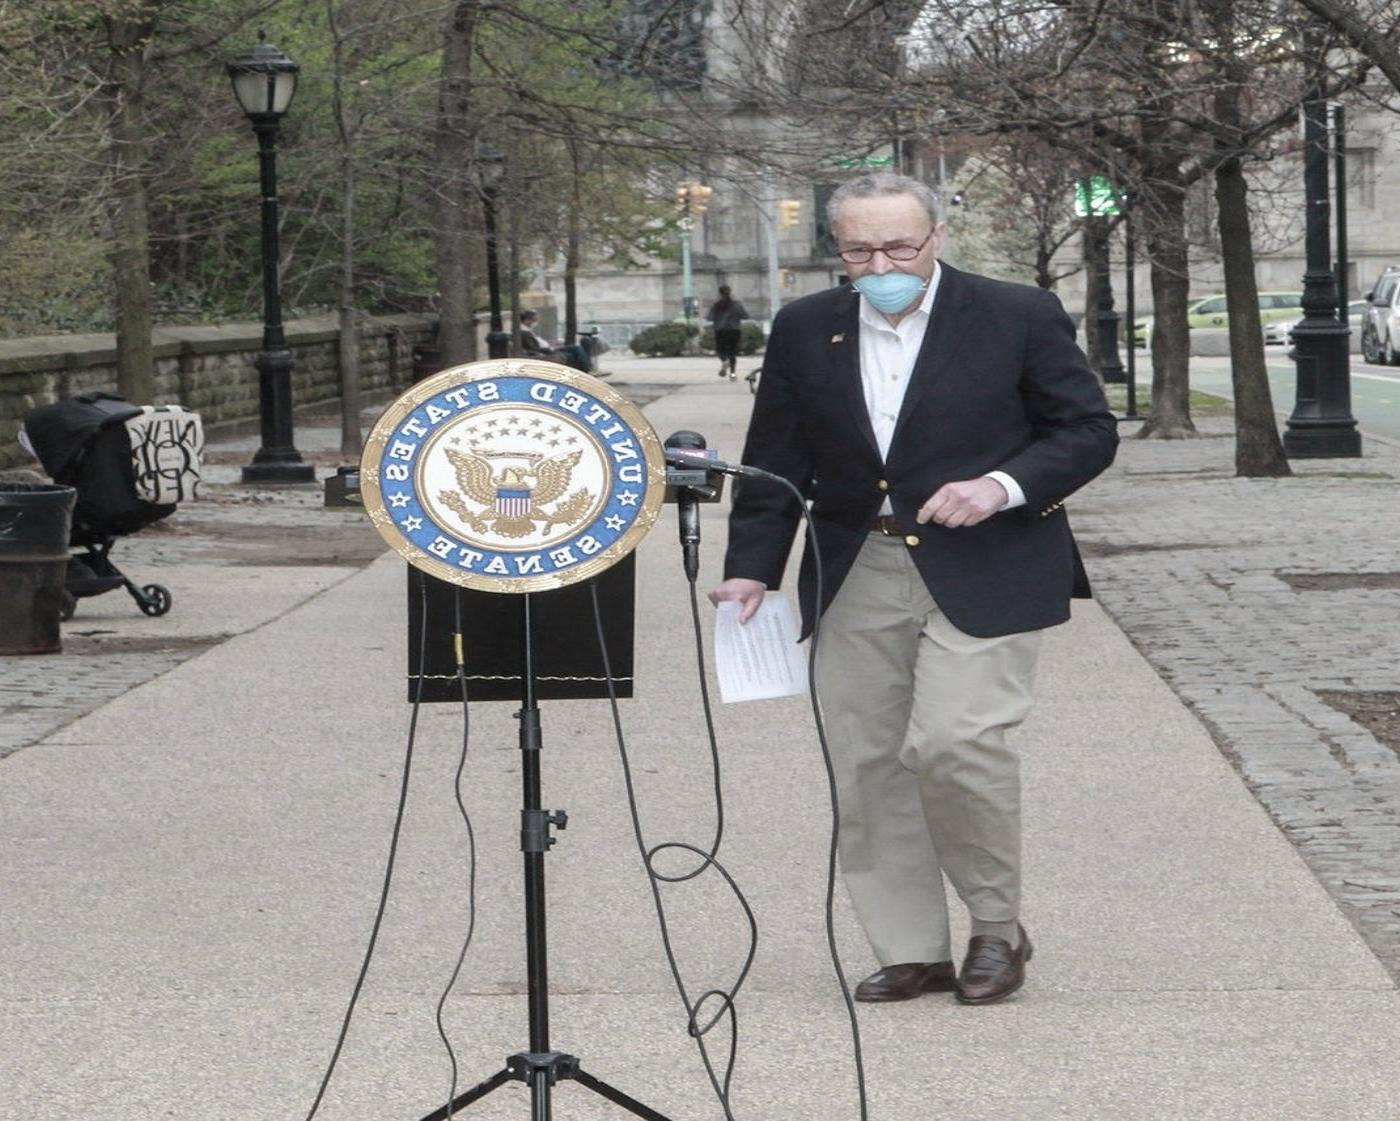mask_weared_incorrect: (824, 172, 949, 319)
